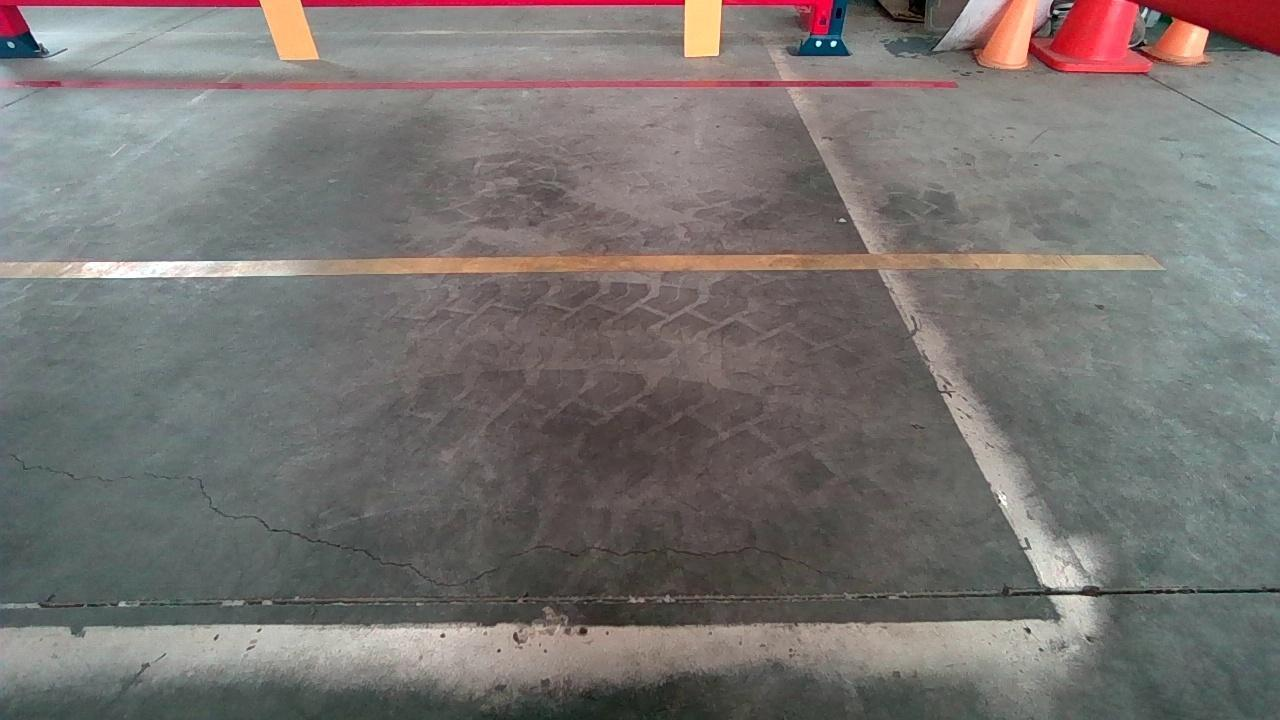orange_strip: (260, 0, 319, 58), (684, 0, 722, 54)
red_line: (0, 78, 957, 92)
yellow_line: (0, 252, 1161, 280)
